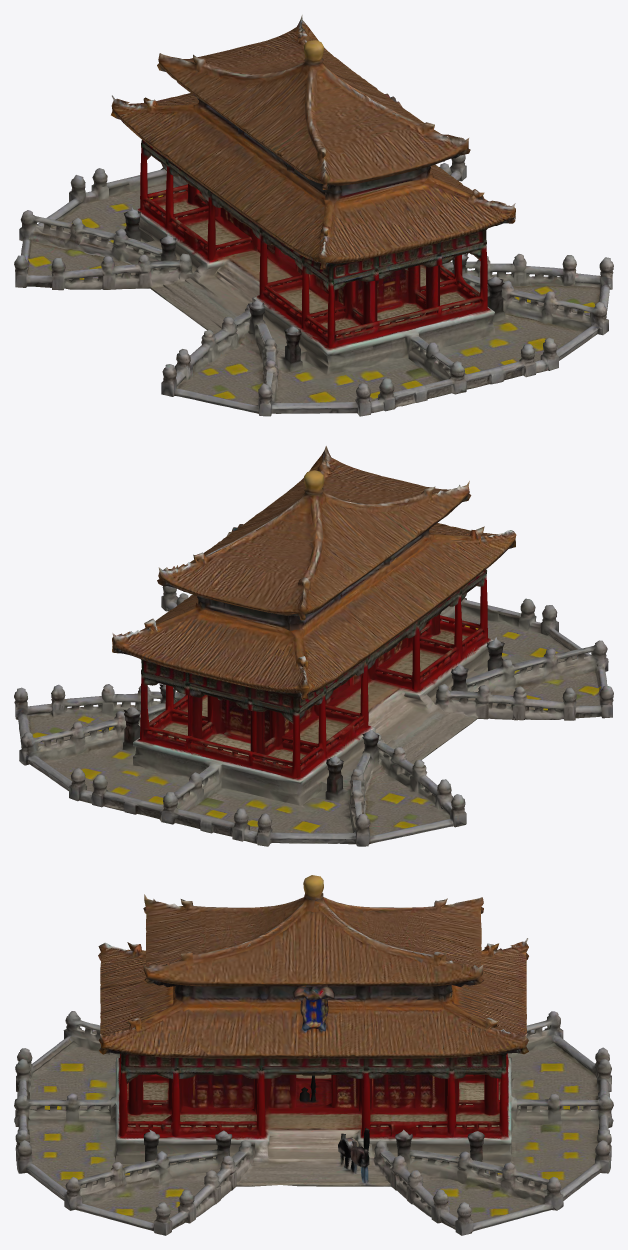
Rendered from detail.glb.
3 renders of one model, top to bottom at view 1: azimuth 30°, elevation 25°; view 2: azimuth 150°, elevation 25°; view 3: azimuth 270°, elevation 25°, orthographic.
Visible parts, largest first — view 1: guozijian/tripo_node_50a8406a-ee39-4b21-a69a-288838b6e4f5; view 2: guozijian/tripo_node_50a8406a-ee39-4b21-a69a-288838b6e4f5; view 3: guozijian/tripo_node_50a8406a-ee39-4b21-a69a-288838b6e4f5.
Part boxes in pixels (x1,y1,x2,y2): guozijian/tripo_node_50a8406a-ee39-4b21-a69a-288838b6e4f5: (14,15,613,416); guozijian/tripo_node_50a8406a-ee39-4b21-a69a-288838b6e4f5: (14,446,613,846); guozijian/tripo_node_50a8406a-ee39-4b21-a69a-288838b6e4f5: (14,875,613,1235).
Bounding box in the file's own units: 0.3172 × 0.1645 × 0.36.
Materials: 1 (1 with a texture image).
